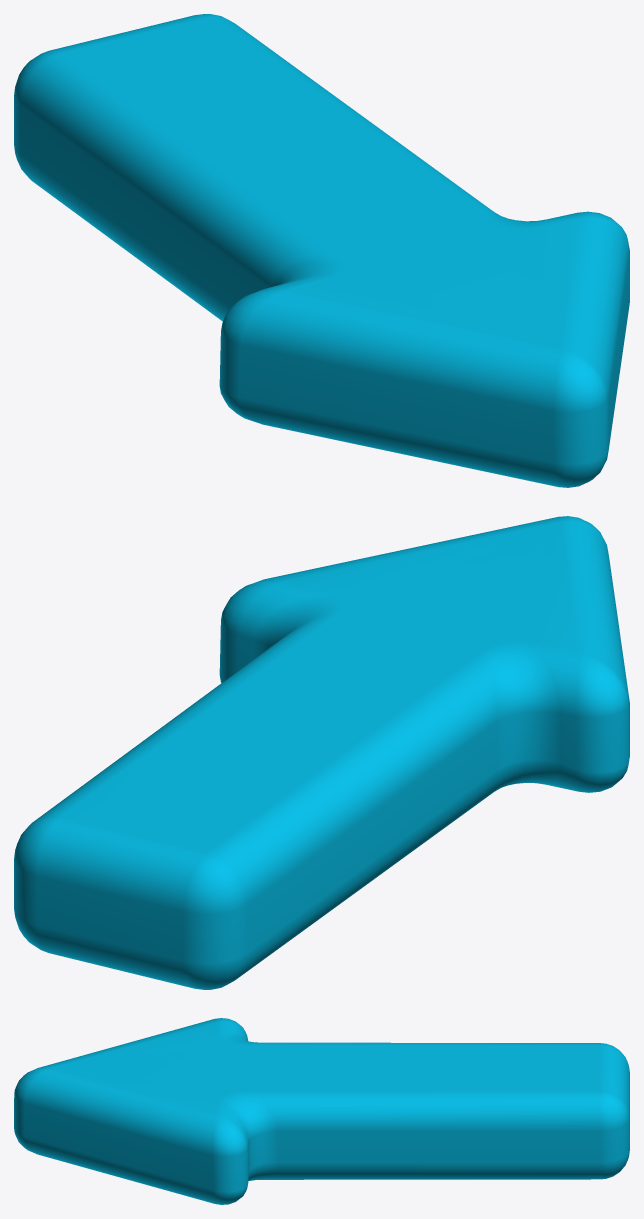
File: arrow.fbx
3 renders of one model, top to bottom at view 1: azimuth 30°, elevation 25°; view 2: azimuth 150°, elevation 25°; view 3: azimuth 270°, elevation 25°, orthographic. The views are drawn at different scales.
Parts seen in each view (by area): view 1: arrow; view 2: arrow; view 3: arrow.
Boxes of the visible parts, x1=… form: arrow: x1=14, y1=14, x2=629, y2=487; arrow: x1=14, y1=516, x2=629, y2=989; arrow: x1=14, y1=1018, x2=629, y2=1204.
Size of the model in its own units: 1.17 by 0.37 by 2.42.
